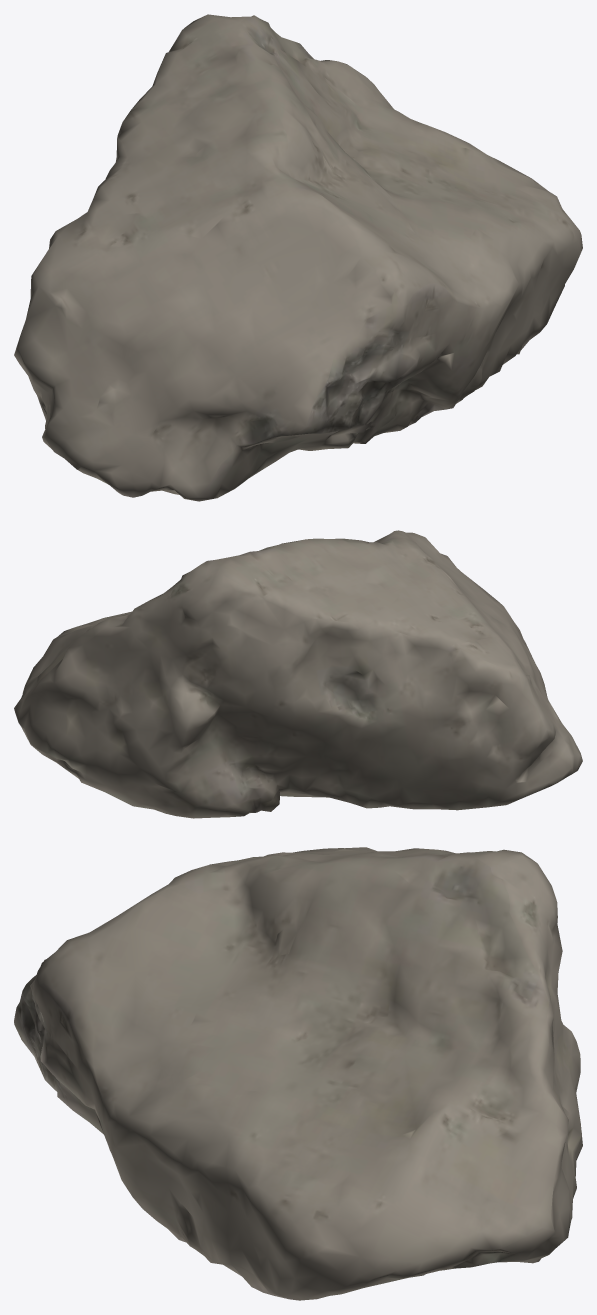
File: moon_rock_03.glb
3 views of the same model, one above another, from view 1: azimuth 30°, elevation 25°; view 2: azimuth 150°, elevation 25°; view 3: azimuth 270°, elevation 25° (orthographic). The views are drawn at different scales.
Visible parts, largest first — view 1: moon_rock_03_LOD0; view 2: moon_rock_03_LOD0; view 3: moon_rock_03_LOD0.
Part boxes in pixels (<box>): moon_rock_03_LOD0: <box>14,14,582,501</box>; moon_rock_03_LOD0: <box>14,530,582,818</box>; moon_rock_03_LOD0: <box>14,847,582,1300</box>.
Bounding box in the file's own units: 0.112 × 0.0582 × 0.0861.
Materials: 1 (1 with a texture image).
